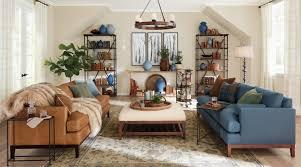chair: (129, 77, 144, 96)
door: (7, 0, 20, 94), (22, 0, 34, 88)
light: (132, 3, 175, 28), (233, 41, 254, 82)
sofa: (7, 78, 111, 163), (197, 80, 297, 158)
table: (119, 102, 186, 138), (7, 116, 54, 167), (123, 70, 180, 85)
